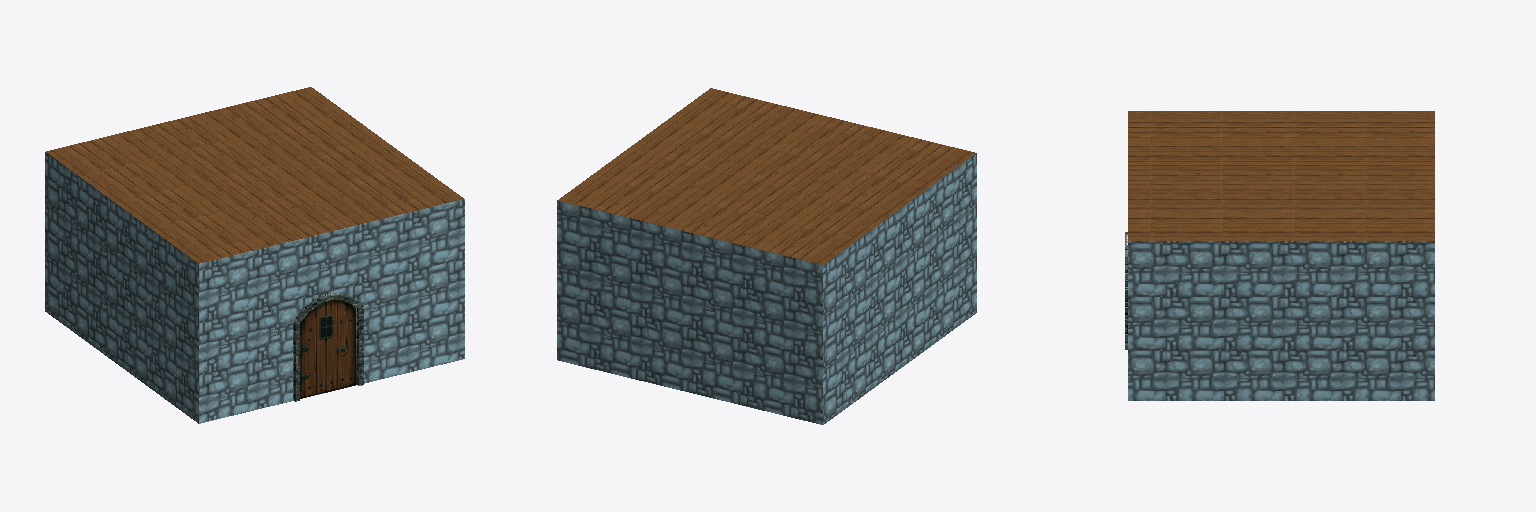
3 renders of one model, left to right at view 1: azimuth 30°, elevation 25°; view 2: azimuth 150°, elevation 25°; view 3: azimuth 270°, elevation 25°, orthographic.
Parts seen in each view (by area): view 1: Plane.002; view 2: Plane.002; view 3: Plane.002.
Boxes of the visible parts, box(x1,y1,x2,y2) form: Plane.002: box(45, 87, 464, 423); Plane.002: box(557, 88, 976, 424); Plane.002: box(1125, 111, 1434, 400).
Bounding box in the file's own units: 11.5 × 6.62 × 11.64.
Materials: 1 (1 with a texture image).